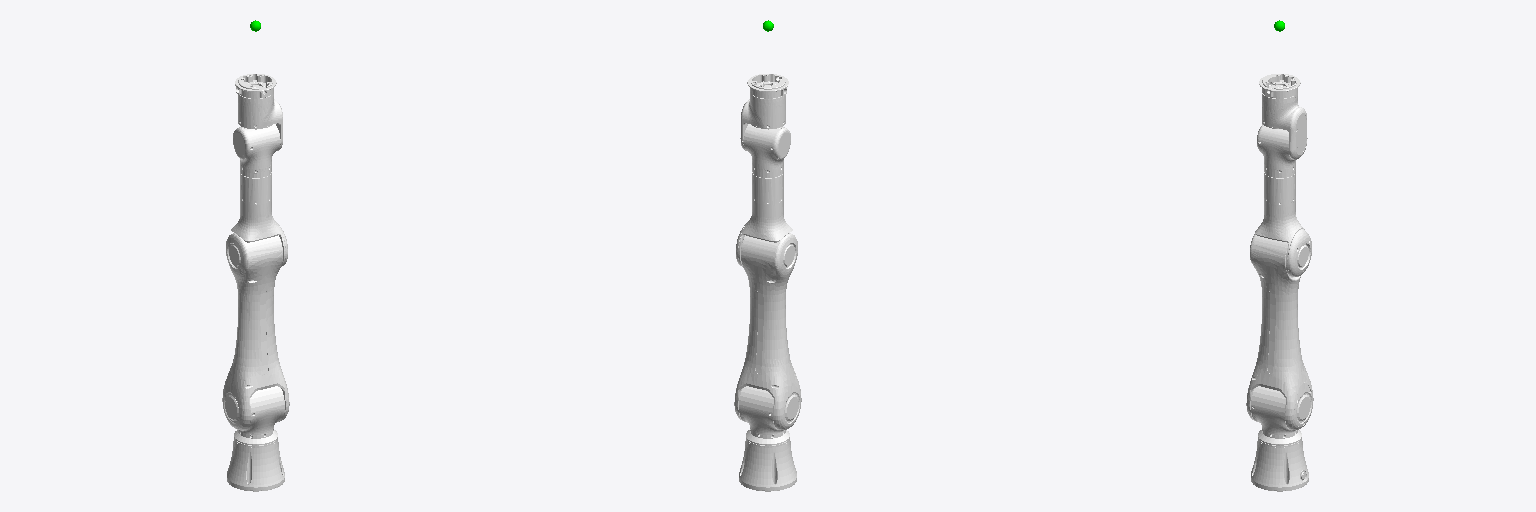
The robot description file, URDF, robot "arm620":
<?xml version="1.0" encoding="utf-8"?>
<robot
  name="arm620">
  <link
    name="base_link">
    <inertial>
      <origin
        xyz="-3.493E-05 1.9321E-08 0.041738"
        rpy="0 0 0" />
      <mass
        value="1.235" />
      <inertia
        ixx="0.00069305"
        ixy="-2.4629E-09"
        ixz="-7.7538E-07"
        iyy="0.00069224"
        iyz="1.1986E-09"
        izz="0.00059207" />
    </inertial>
    <visual>
      <origin
        xyz="0 0 0"
        rpy="0 0 0" />
      <geometry>
        <mesh
          filename="./base_link.STL" />
      </geometry>
      <material
        name="">
        <color
          rgba="1 1 1 1" />
      </material>
    </visual>
    <collision>
      <origin
        xyz="0 0 0"
        rpy="0 0 0" />
      <geometry>
        <mesh
          filename="./base_link.STL" />
      </geometry>
    </collision>
  </link>
  <link
    name="Link1">
    <inertial>
      <origin
        xyz="0.0083082 -9.0414E-07 0.066279"
        rpy="0 0 0" />
      <mass
        value="1.0225" />
      <inertia
        ixx="0.00033468"
        ixy="-1.0629E-08"
        ixz="-6.9769E-06"
        iyy="0.0002898"
        iyz="-1.0465E-08"
        izz="0.00026359" />
    </inertial>
    <visual>
      <origin
        xyz="0 0 0"
        rpy="0 0 0" />
      <geometry>
        <mesh
          filename="./Link1.STL" />
      </geometry>
      <material
        name="">
        <color
          rgba="1 1 1 1" />
      </material>
    </visual>
    <collision>
      <origin
        xyz="0 0 0"
        rpy="0 0 0" />
      <geometry>
        <mesh
          filename="./Link1.STL" />
      </geometry>
    </collision>
  </link>
  <joint
    name="joint1"
    type="revolute">
    <origin
      xyz="0 0 0.084"
      rpy="0 0 0" />
    <parent
      link="base_link" />
    <child
      link="Link1" />
    <axis
      xyz="0 0 1" />
    <limit
      lower="-2.967"
      upper="2.967"
      effort="0"
      velocity="0" />
  </joint>
  <link
    name="Link2">
    <inertial>
      <origin
        xyz="1.6176E-06 0.19554 -0.0019139"
        rpy="0 0 0" />
      <mass
        value="1.925" />
      <inertia
        ixx="0.0092613"
        ixy="2.9244E-08"
        ixz="-6.7107E-09"
        iyy="0.00075528"
        iyz="-1.5539E-05"
        izz="0.0090845" />
    </inertial>
    <visual>
      <origin
        xyz="0 0 0"
        rpy="0 0 0" />
      <geometry>
        <mesh
          filename="./Link2.STL" />
      </geometry>
      <material
        name="">
        <color
          rgba="1 1 1 1" />
      </material>
    </visual>
    <collision>
      <origin
        xyz="0 0 0"
        rpy="0 0 0" />
      <geometry>
        <mesh
          filename="./Link2.STL" />
      </geometry>
    </collision>
  </link>
  <joint
    name="joint2"
    type="revolute">
    <origin
      xyz="0 0 0.068718"
      rpy="1.5708 0 -1.5708" />
    <parent
      link="Link1" />
    <child
      link="Link2" />
    <axis
      xyz="0 0 -1" />
    <limit
      lower="-1.5708"
      upper="1.5708"
      effort="0"
      velocity="0" />
  </joint>
  <link
    name="Link3">
    <inertial>
      <origin
        xyz="1.8251E-05 -0.073691 0.010704"
        rpy="0 0 0" />
      <mass
        value="0.73" />
      <inertia
        ixx="0.00059318"
        ixy="1.2073E-07"
        ixz="1.9423E-08"
        iyy="0.00015563"
        iyz="-0.00011324"
        izz="0.00055379" />
    </inertial>
    <visual>
      <origin
        xyz="0 0 0"
        rpy="0 0 0" />
      <geometry>
        <mesh
          filename="./Link3.STL" />
      </geometry>
      <material
        name="">
        <color
          rgba="1 1 1 1" />
      </material>
    </visual>
    <collision>
      <origin
        xyz="0 0 0"
        rpy="0 0 0" />
      <geometry>
        <mesh
          filename="./Link3.STL" />
      </geometry>
    </collision>
  </link>
  <joint
    name="joint3"
    type="revolute">
    <origin
      xyz="0 0.30025 0"
      rpy="-3.1416 0 0" />
    <parent
      link="Link2" />
    <child
      link="Link3" />
    <axis
      xyz="0 0 1" />
    <limit
      lower="-1.5708"
      upper="1.5708"
      effort="0"
      velocity="0" />
  </joint>
  <link
    name="Link4">
    <inertial>
      <origin
        xyz="0.0059454 2.5068E-05 0.051809"
        rpy="0 0 0" />
      <mass
        value="0.5174" />
      <inertia
        ixx="0.00010342"
        ixy="-7.9433E-09"
        ixz="-7.9245E-06"
        iyy="0.0001193"
        iyz="-1.6196E-08"
        izz="8.5637E-05" />
    </inertial>
    <visual>
      <origin
        xyz="0 0 0"
        rpy="0 0 0" />
      <geometry>
        <mesh
          filename="./Link4.STL" />
      </geometry>
      <material
        name="">
        <color
          rgba="1 1 1 1" />
      </material>
    </visual>
    <collision>
      <origin
        xyz="0 0 0"
        rpy="0 0 0" />
      <geometry>
        <mesh
          filename= "./Link4.STL" />
      </geometry>
    </collision>
  </link>
  <joint
    name="joint4"
    type="revolute">
    <origin
      xyz="0 -0.15558 3.5E-05"
      rpy="1.5708 -1.5708 0" />
    <parent
      link="Link3" />
    <child
      link="Link4" />
    <axis
      xyz="0 0 1" />
    <limit
      lower="-2.967"
      upper="2.967"
      effort="0"
      velocity="0" />
  </joint>
  <link
    name="Link5">
    <inertial>
      <origin
        xyz="0.0095168 0.061153 1.0106E-05"
        rpy="0 0 0" />
      <mass
        value="0.7233" />
      <inertia
        ixx="0.00013586"
        ixy="3.9115E-05"
        ixz="3.3963E-08"
        iyy="0.00010055"
        iyz="-1.3885E-07"
        izz="0.0001594" />
    </inertial>
    <visual>
      <origin
        xyz="0 0 0"
        rpy="0 0 0" />
      <geometry>
        <mesh
          filename= "./Link5.STL" />
      </geometry>
      <material
        name="">
        <color
          rgba="1 1 1 1" />
      </material>
    </visual>
    <collision>
      <origin
        xyz="0 0 0"
        rpy="0 0 0" />
      <geometry>
        <mesh
          filename= "./Link5.STL" />
      </geometry>
    </collision>
  </link>
  <joint
    name="joint5"
    type="revolute">
    <origin
      xyz="-3.5E-05 1.5362E-05 0.064223"
      rpy="1.5708 0 0" />
    <parent
      link="Link4" />
    <child
      link="Link5" />
    <axis
      xyz="1 0 0" />
    <limit
      lower="-1.5708"
      upper="1.5708"
      effort="0"
      velocity="0" />
  </joint>
  <link
    name="Link6">
    <inertial>
      <origin
        xyz="-0.0023023 0.0016027 0.010682"
        rpy="0 0 0" />
      <mass
        value="0.0953" />
      <inertia
        ixx="1.3179E-05"
        ixy="-9.4826E-08"
        ixz="2.2437E-07"
        iyy="1.3416E-05"
        iyz="-1.8512E-07"
        izz="2.4622E-05" />
    </inertial>
    <visual>
      <origin
        xyz="0 0 0"
        rpy="0 0 0" />
      <geometry>
        <mesh
          filename= "./Link6.STL" />
      </geometry>
      <material
        name="">
        <color
          rgba="1 1 1 1" />
      </material>
    </visual>
    <collision>
      <origin
        xyz="0 0 0"
        rpy="0 0 0" />
      <geometry>
        <mesh
          filename= "./Link6.STL" />
      </geometry>
    </collision>
  </link>
  <joint
    name="joint6"
    type="revolute">
    <origin
      xyz="-0.00047523 0.095552 0"
      rpy="-1.5709 0 0" />
    <parent
      link="Link5" />
    <child
      link="Link6" />
    <axis
      xyz="0 0 1" />
    <limit
      lower="-2.967"
      upper="2.967"
      effort="9"
      velocity="3.14" />
  </joint>

  <!-- Tools link: 夹爪中心点 (tools_link) -->
  <link name="tools_link">
    <inertial>
      <mass value="0.001"/>
      <origin xyz="0 0 0"/>
      <inertia ixx="0.000001" ixy="0" ixz="0" iyy="0.000001" iyz="0" izz="0.000001"/>
    </inertial>
    <visual>
      <geometry>
        <sphere radius="0.01"/>
      </geometry>
      <material name="green">
        <color rgba="0 1 0 0.6"/>
      </material>
    </visual>
  </link>

  <joint name="tools_link_joint" type="fixed">
    <parent link="Link6"/>
    <child link="tools_link"/>
    <!-- 夹爪中心相对于Link6的位置: z = 0.13m (根据 robotiq-2f-chain.xml 中的 tools_link site) -->
    <origin xyz="0 0 0.13" rpy="0 0 0"/>
  </joint>

</robot>

--- What the picture shows (computed from the rendered views, not written in the file) ---
Views: 3 orthographic renders of the robot side by side, from view 1: azimuth 30°, elevation 25°; view 2: azimuth 150°, elevation 25°; view 3: azimuth 330°, elevation 25°.
Robot: arm620 — 8 links, 7 joints (6 revolute, 1 fixed); root link base_link; default pose: every joint at zero.
Visible links, largest first — view 1: Link2, base_link, Link3, Link4, Link1, Link5, Link6; view 2: Link2, base_link, Link3, Link4, Link1, Link5, Link6; view 3: Link2, Link3, base_link, Link5, Link4, Link1, Link6.
Link boxes in pixels (x1,y1,x2,y2): Link2: [222, 233, 289, 429]; base_link: [227, 429, 284, 491]; Link3: [231, 172, 287, 266]; Link4: [233, 124, 280, 177]; Link1: [240, 386, 284, 436]; Link5: [238, 85, 282, 150]; Link6: [235, 74, 276, 98]; Link2: [734, 233, 801, 429]; base_link: [739, 429, 796, 491]; Link3: [736, 172, 792, 266]; Link4: [743, 124, 790, 177]; Link1: [739, 386, 783, 436]; Link5: [740, 85, 785, 150]; Link6: [747, 74, 788, 98]; Link2: [1246, 234, 1313, 429]; Link3: [1255, 172, 1311, 276]; base_link: [1251, 429, 1308, 491]; Link5: [1262, 85, 1307, 159]; Link4: [1257, 124, 1295, 177]; Link1: [1251, 386, 1295, 436]; Link6: [1259, 74, 1300, 98].
Size in the robot's own frame: 0.1059 by 0.1059 by 0.9083 metres.
7 mesh visuals loaded from 7 distinct referenced files (7 binary STL).
